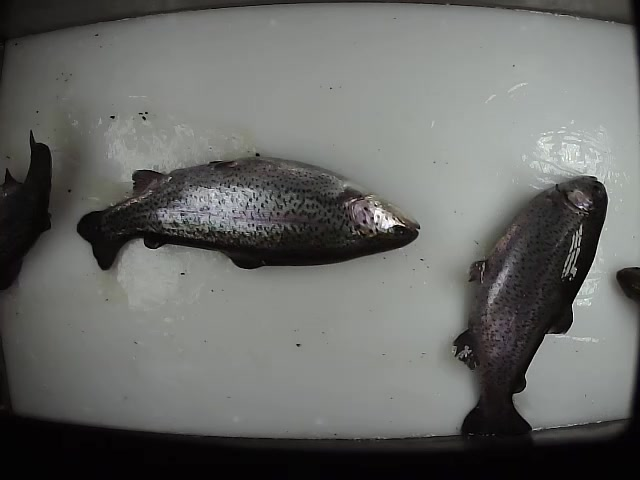fish: (451, 172, 610, 438), (74, 155, 421, 274), (1, 128, 55, 297)
